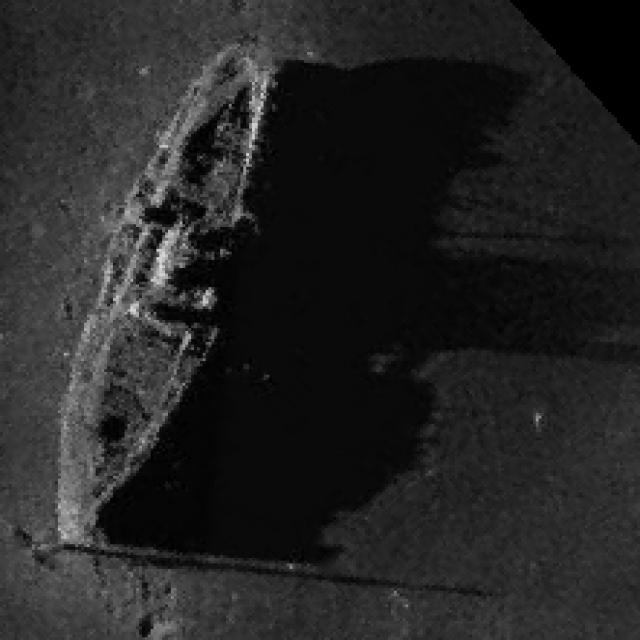ship: (43, 24, 278, 530)
